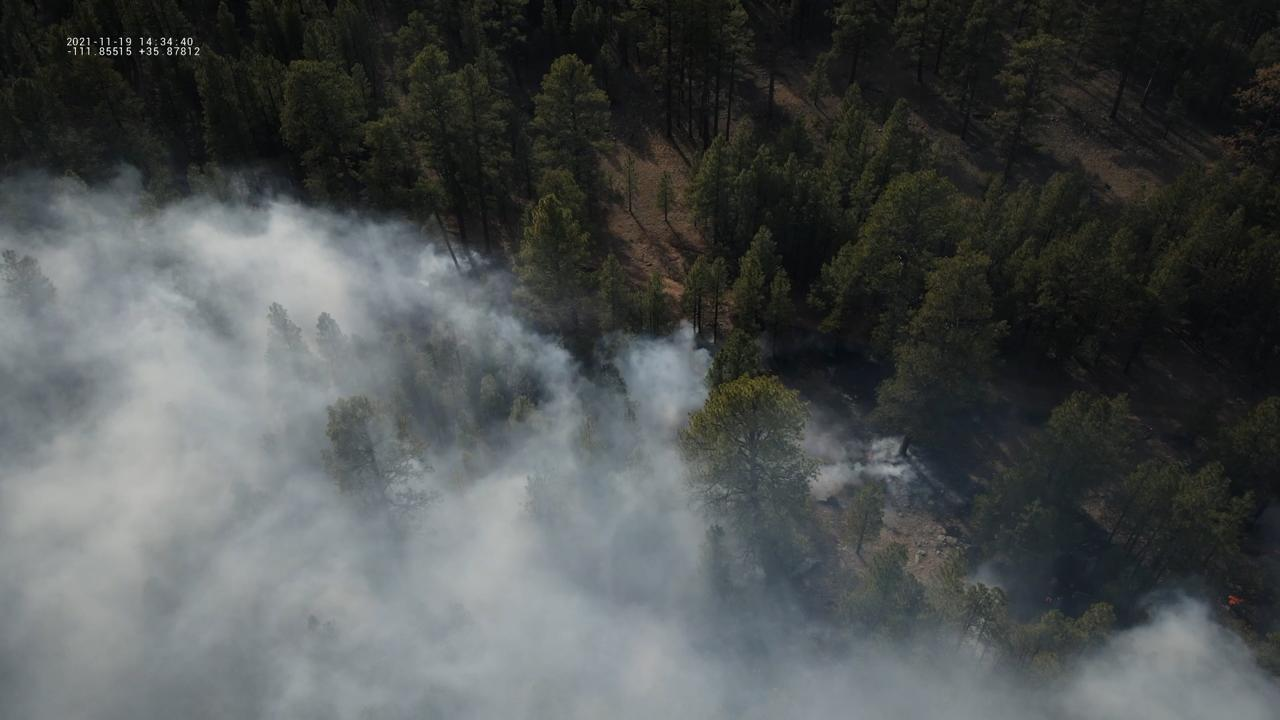fire: (1227, 594, 1244, 606)
smoke: (0, 166, 1280, 720)
